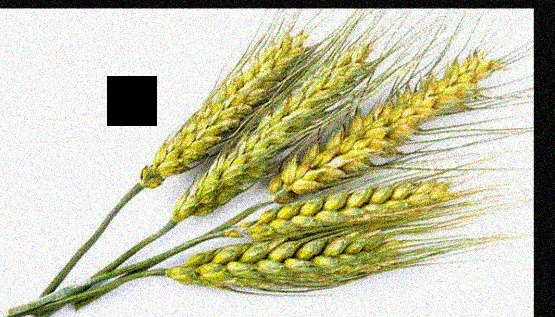wheat: (161, 55, 362, 223), (263, 62, 497, 201), (137, 27, 316, 181), (224, 174, 473, 240), (156, 234, 416, 290)
